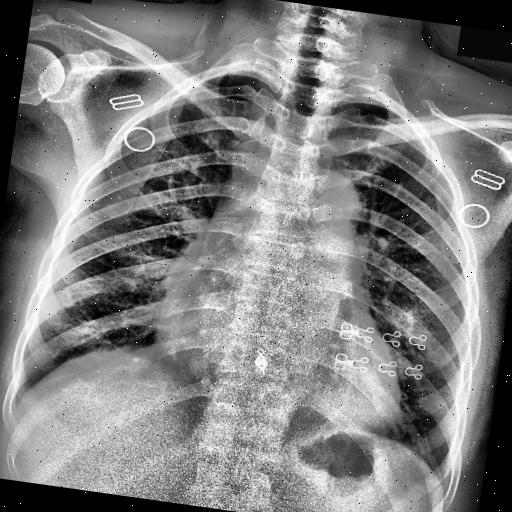0- Aortic enlargement: (296, 162, 372, 263)
3- Cardiomegaly: (146, 288, 414, 437), (148, 294, 413, 432), (142, 302, 404, 429)
